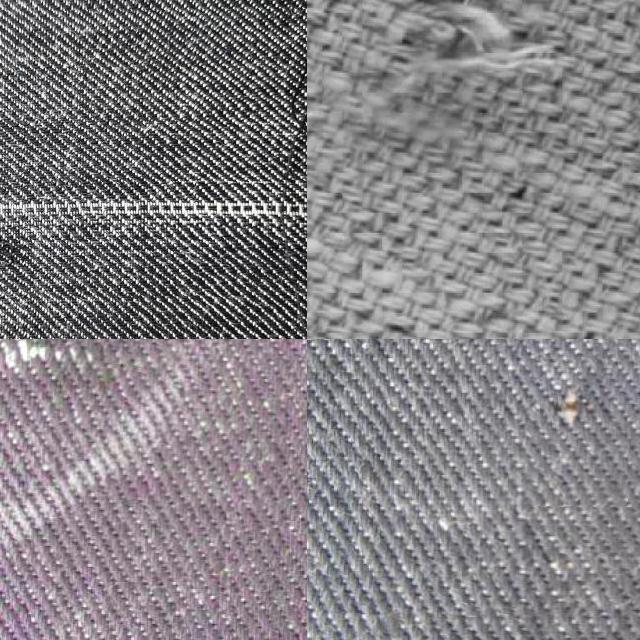Thread_other: (527, 339, 627, 504), (0, 339, 123, 421)
seam: (364, 0, 578, 139)
